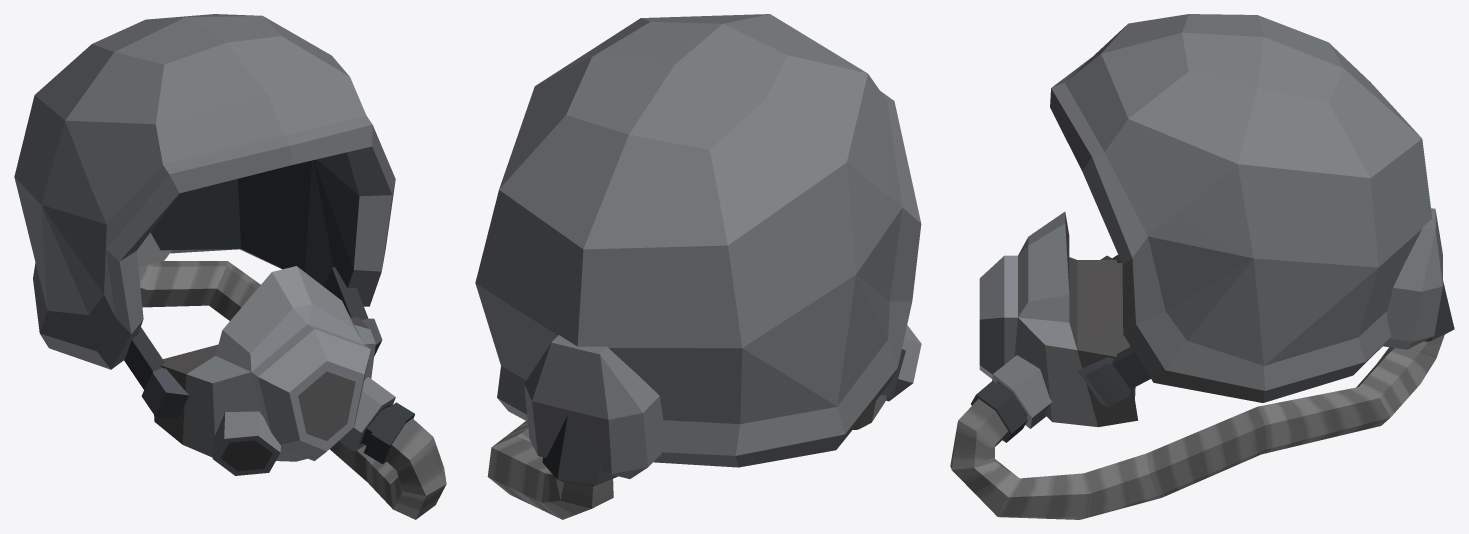
Rendered from SM_Chr_Attach_Helmet_10.fbx.
3 views of the same model, side by side, from view 1: azimuth 30°, elevation 25°; view 2: azimuth 150°, elevation 25°; view 3: azimuth 270°, elevation 25° (orthographic). The views are drawn at different scales.
Visible parts, largest first — view 1: SM_Chr_Attach_Helmet_10; view 2: SM_Chr_Attach_Helmet_10; view 3: SM_Chr_Attach_Helmet_10.
Part boxes in pixels (x1=…): SM_Chr_Attach_Helmet_10: x1=14, y1=14, x2=446, y2=519; SM_Chr_Attach_Helmet_10: x1=475, y1=14, x2=921, y2=519; SM_Chr_Attach_Helmet_10: x1=950, y1=14, x2=1454, y2=519.
Bounding box in the file's own units: 29.39 × 40.81 × 42.74.
